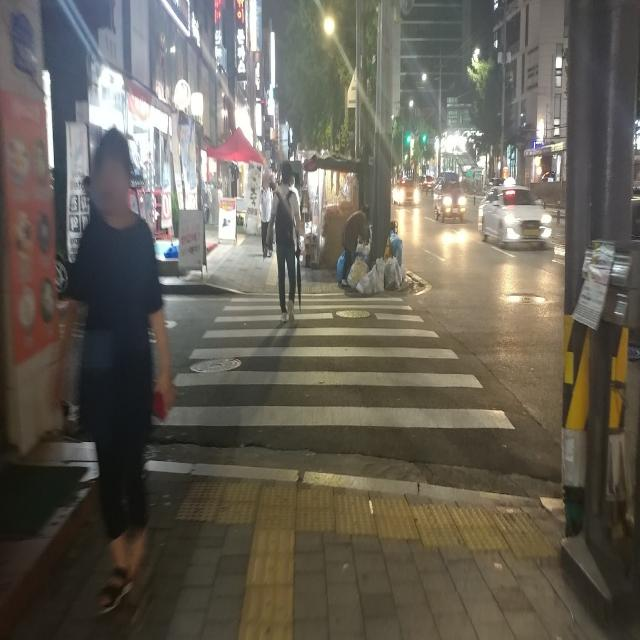횡단보도: (150, 297, 516, 429)
